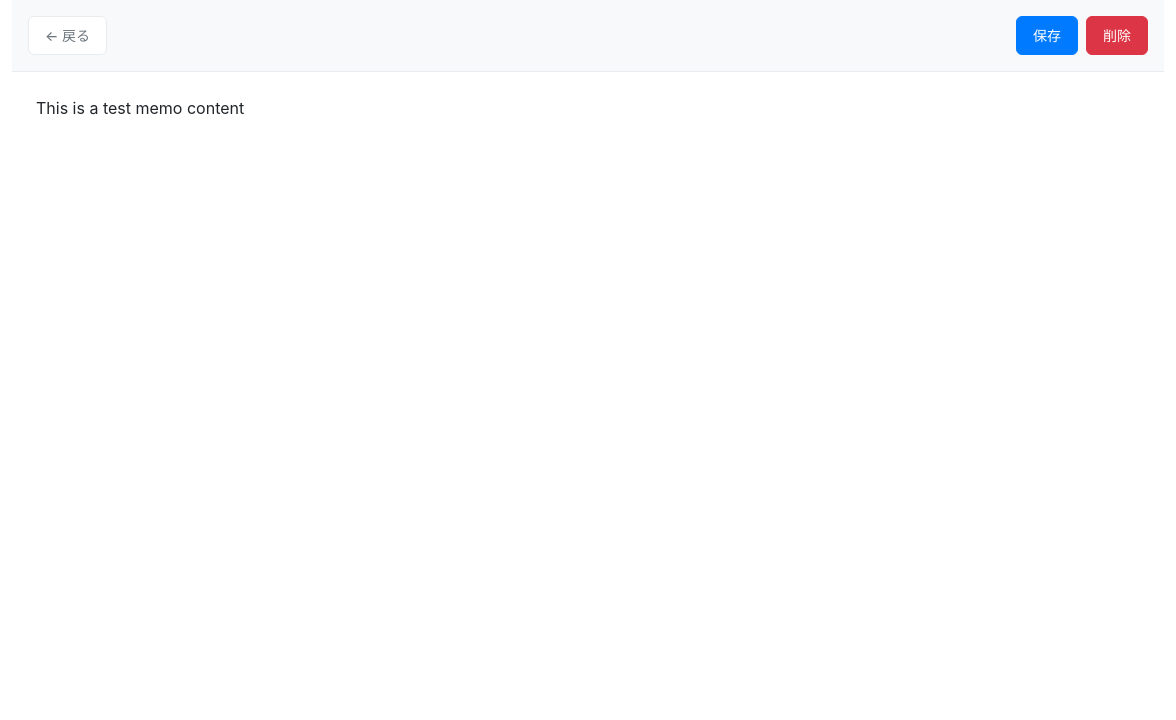
MemoEditor › Auto-save functionality › shows unsaved changes status when content is modified
The width and height of the screenshot is (1176, 720).
// Change content
Replace the text in the text box named "メモ内容" with "Modified content" at x=588, y=396, box [12,72,1164,719]
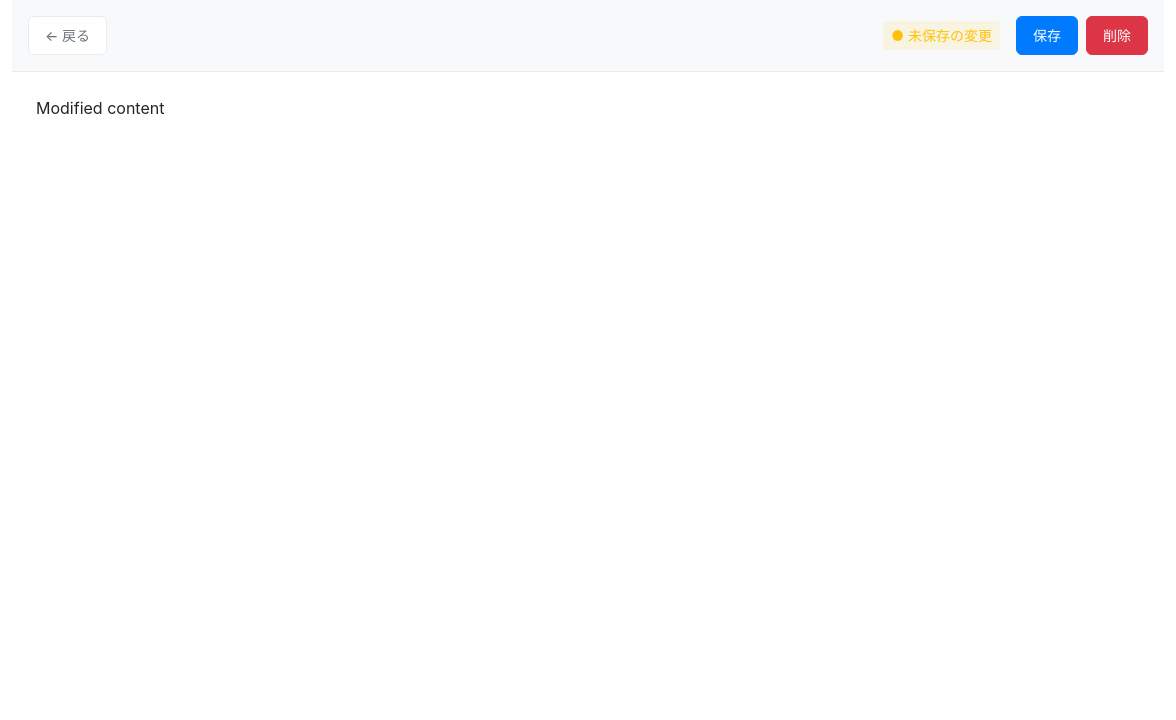
Check: the text "未保存の変更" is shown, box [908,27,992,44]
